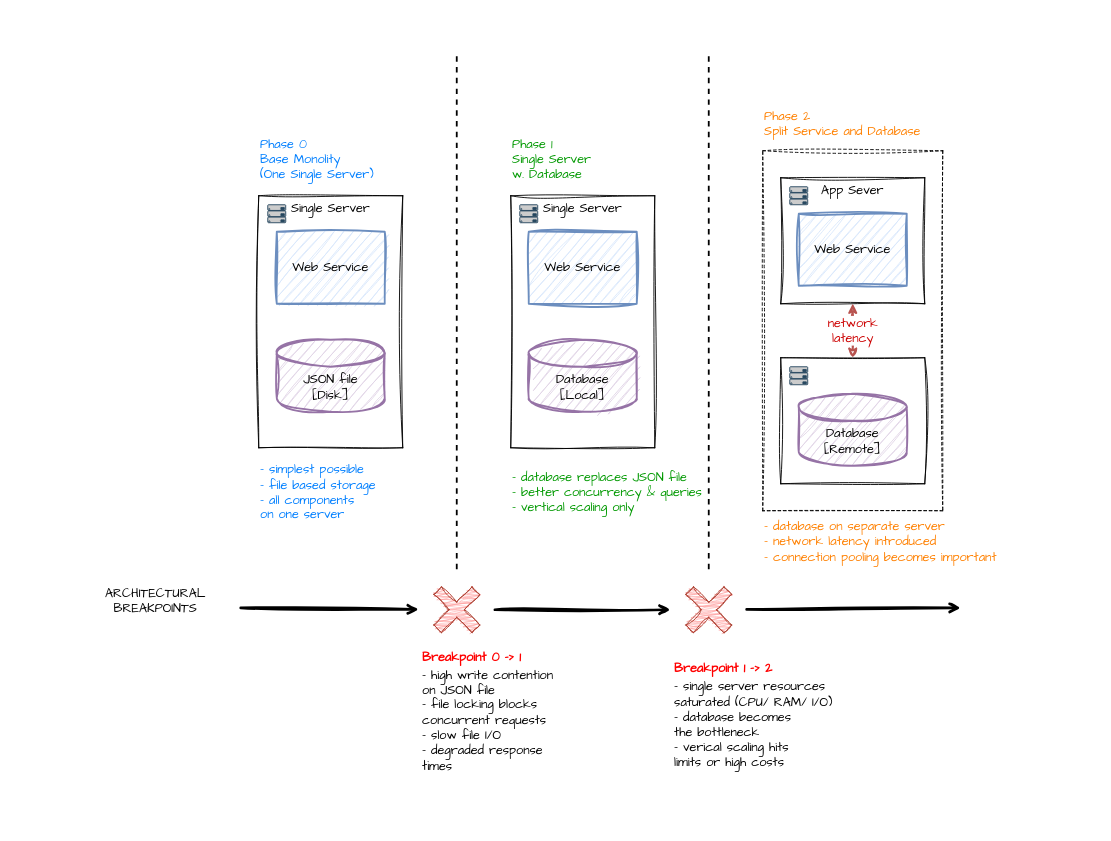
Image size: 1111x841. Some labels were removed from this diagram. The shapes that lost their labels are listed below. From the top down, each one's box as (x1, y1, x2, y2) in pixels, then its label:
(762, 150, 943, 511): Software System
(780, 357, 925, 484): DB Server
